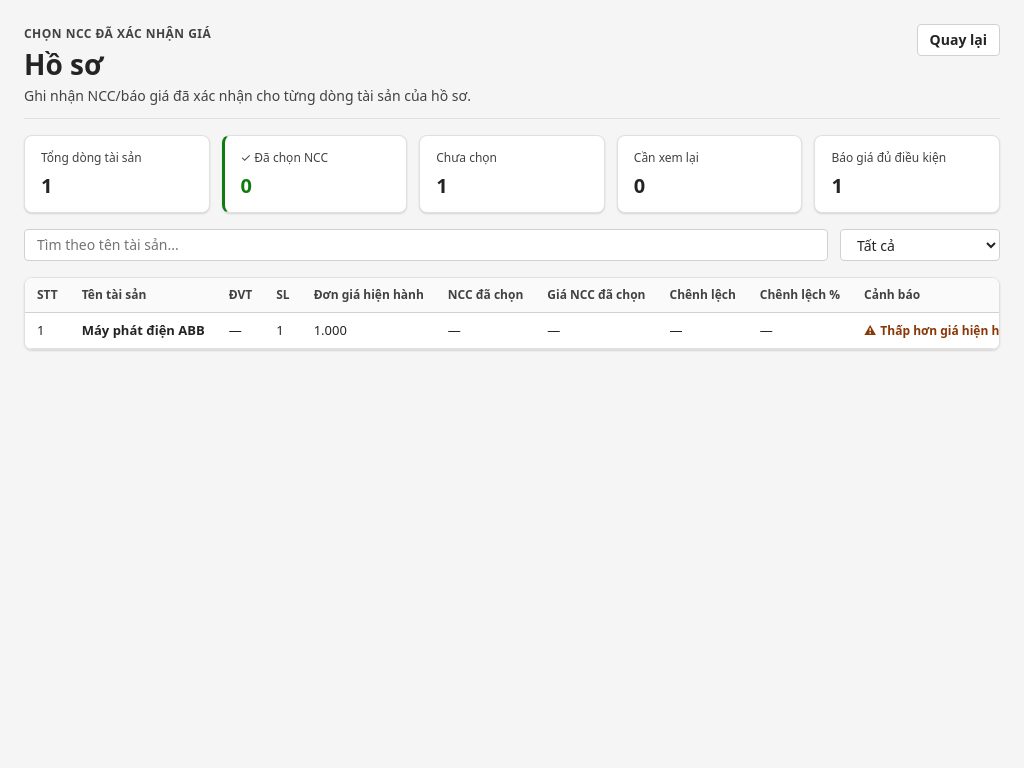
Scenario: NccSelectionPage › confirms a candidate and reloads the aggregate
Click the row named "Xem chi tiết: Máy phát điện ABB": [524, 330] box [25,312,1023,348]
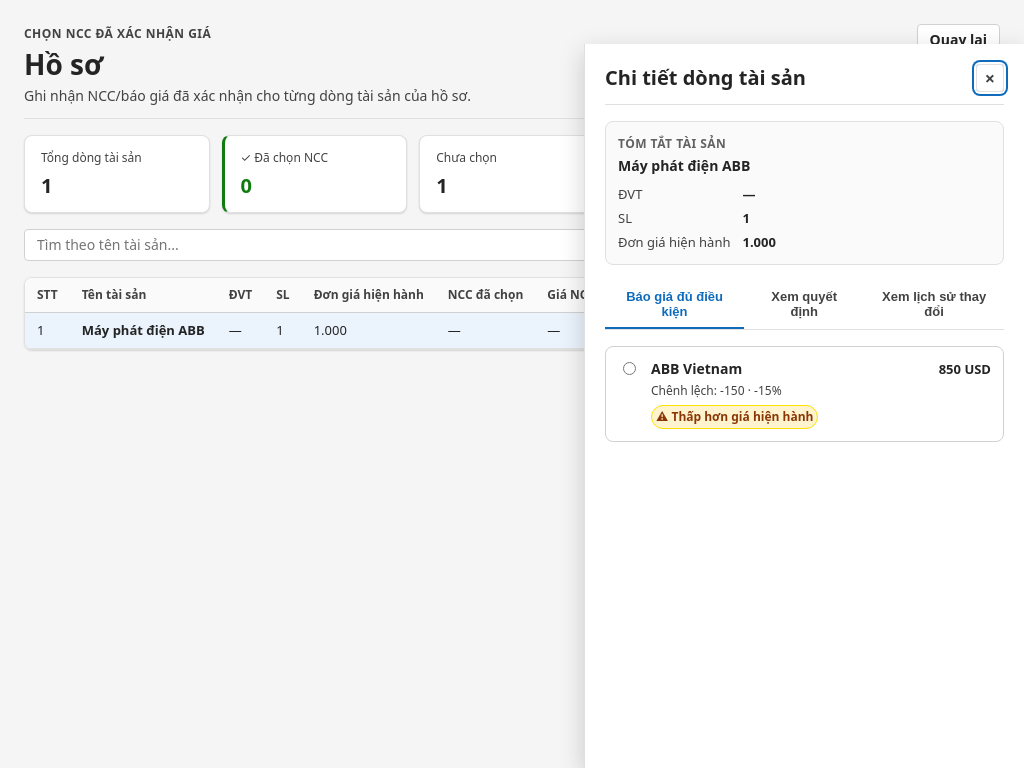
Click the radio button: [630, 368] box [623,362,636,375]
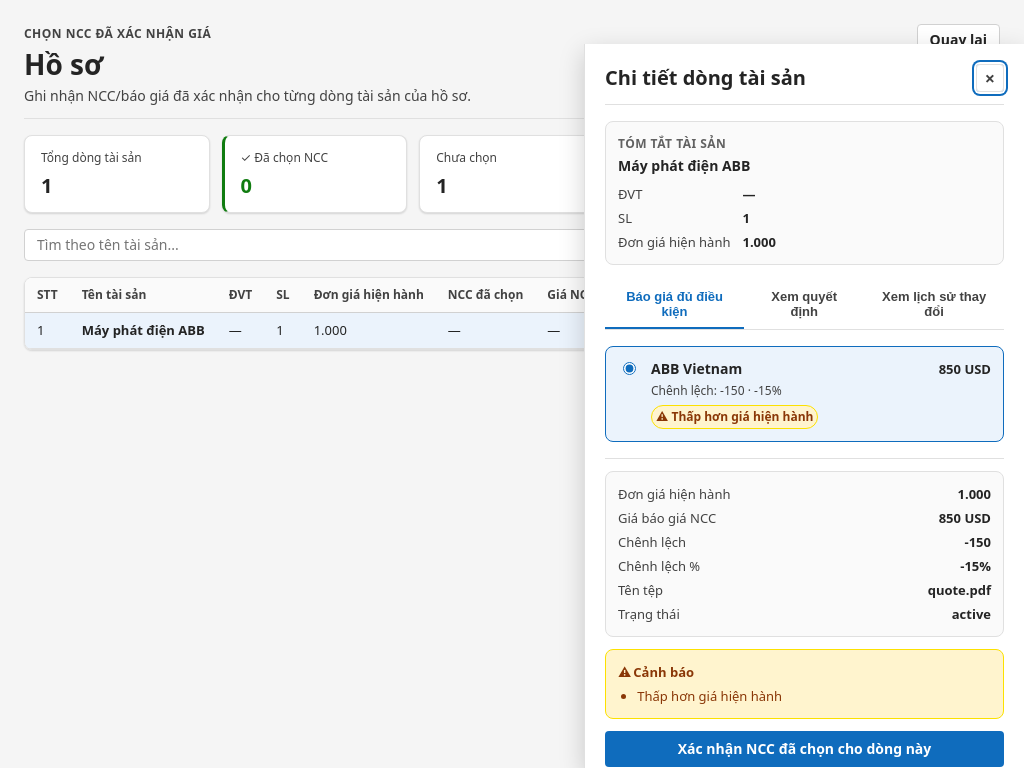
Expected: the text "Thấp hơn giá hiện hành" is shown, [864,322,1000,338]
Expected: the element showing "Cảnh báo Thấp hơn giá hiện hành" is shown, [605,649,1004,719]
Click the button "Xác nhận NCC đã chọn cho dòng này": [804, 749] box [605,731,1004,767]
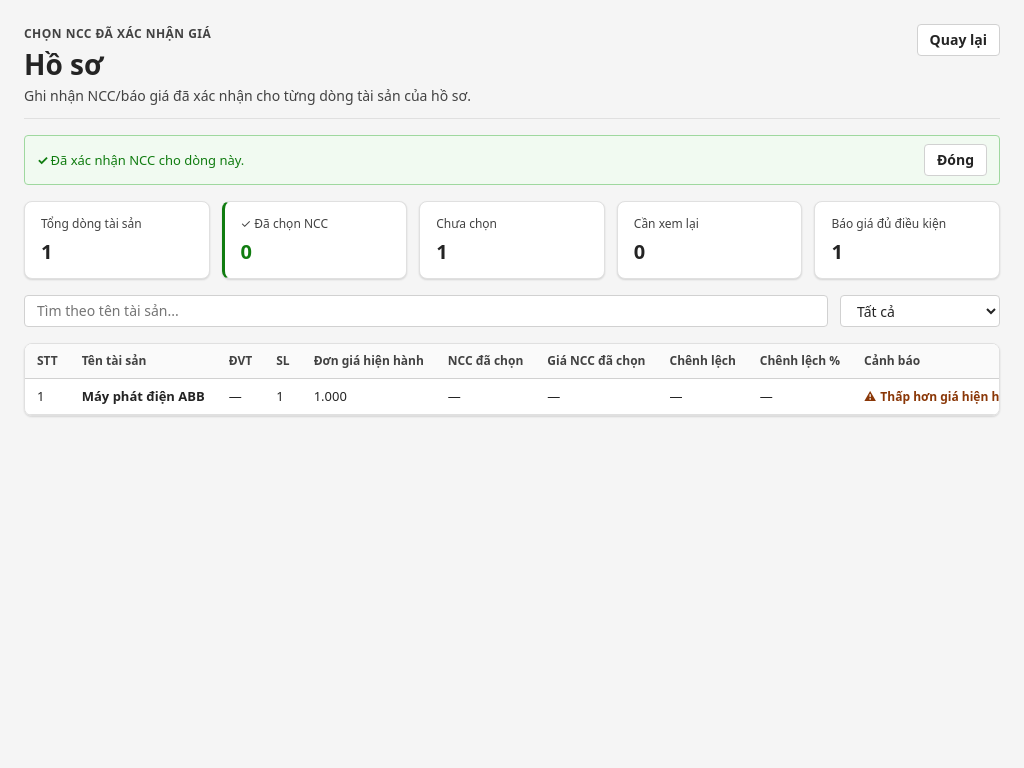
Expected: the number of messages is 1, [24,135,1000,185]
